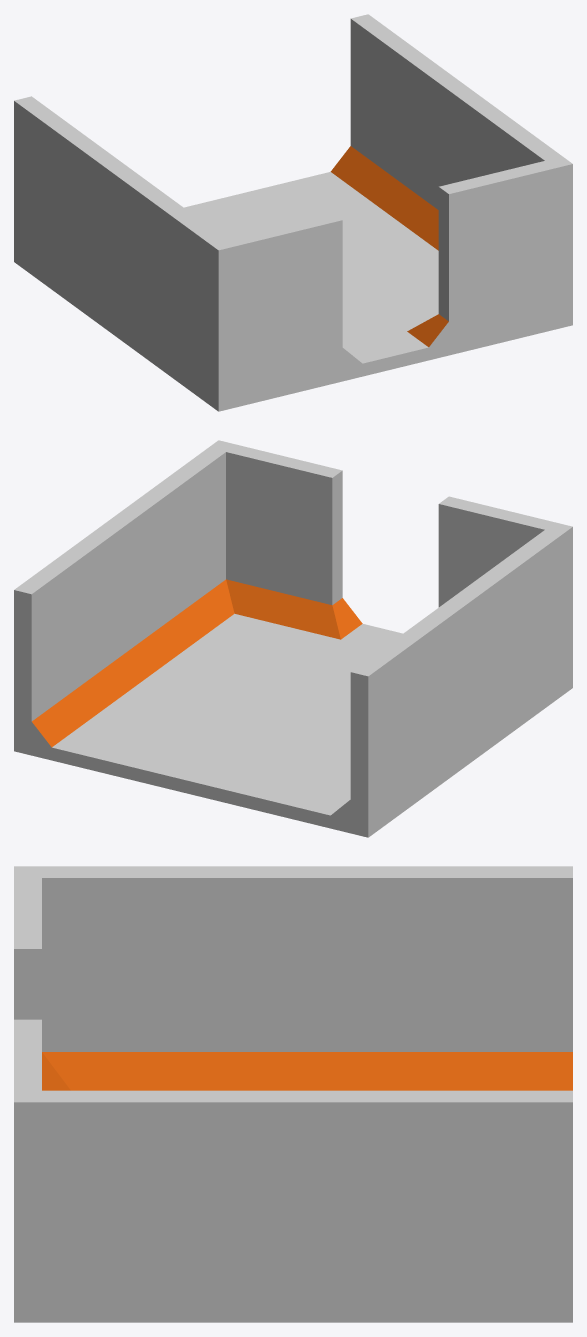
Rendered from 3-wall-1-Door.fbx.
3 renders of one model, top to bottom at view 1: azimuth 30°, elevation 25°; view 2: azimuth 150°, elevation 25°; view 3: azimuth 270°, elevation 25°, orthographic. The views are drawn at different scales.
Visible parts, largest first — view 1: Плоскость.018; view 2: Плоскость.018; view 3: Плоскость.018.
Boxes of the visible parts, bbox=[...] form: Плоскость.018: bbox=[14, 14, 572, 411]; Плоскость.018: bbox=[14, 440, 572, 837]; Плоскость.018: bbox=[14, 866, 572, 1322].
Size of the model in its own units: 200 by 87 by 200.
